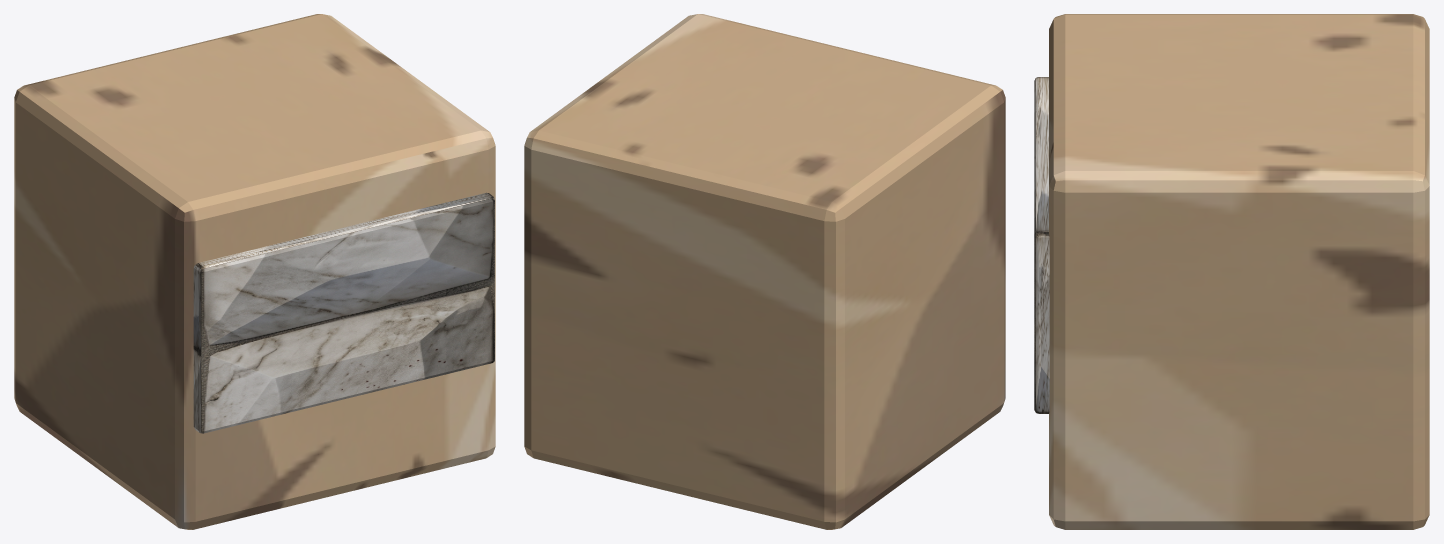
File: ruin_block_110_LOD1.glb
3 renders of one model, left to right at view 1: azimuth 30°, elevation 25°; view 2: azimuth 150°, elevation 25°; view 3: azimuth 270°, elevation 25°, orthographic. The views are drawn at different scales.
Visible parts, largest first — view 1: LOD1_Block, LOD1_Cornice; view 2: LOD1_Block; view 3: LOD1_Block, LOD1_Cornice.
Part boxes in pixels (x1,y1,x2,y2): LOD1_Block: [14, 14, 495, 529]; LOD1_Cornice: [193, 192, 494, 433]; LOD1_Block: [524, 14, 1005, 529]; LOD1_Block: [1049, 14, 1429, 529]; LOD1_Cornice: [1034, 77, 1049, 413].
Bounding box in the file's own units: 1.1 × 1.08 × 1.08.
2 materials, 2 textured.
